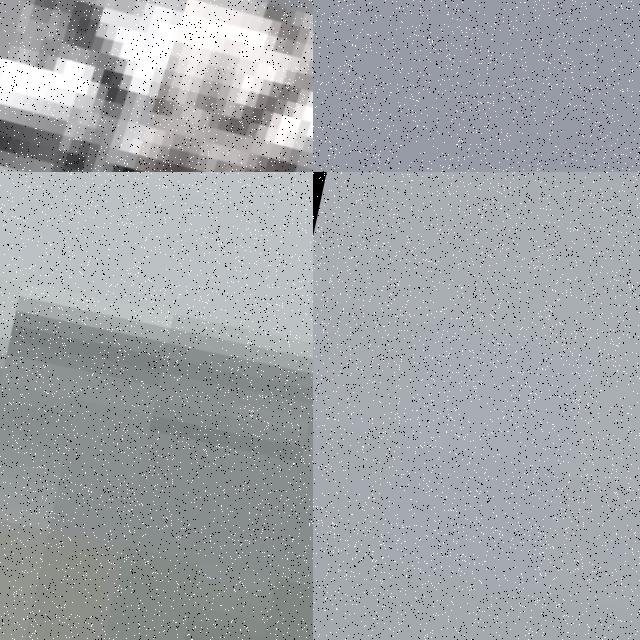drone: (0, 0, 313, 172)
